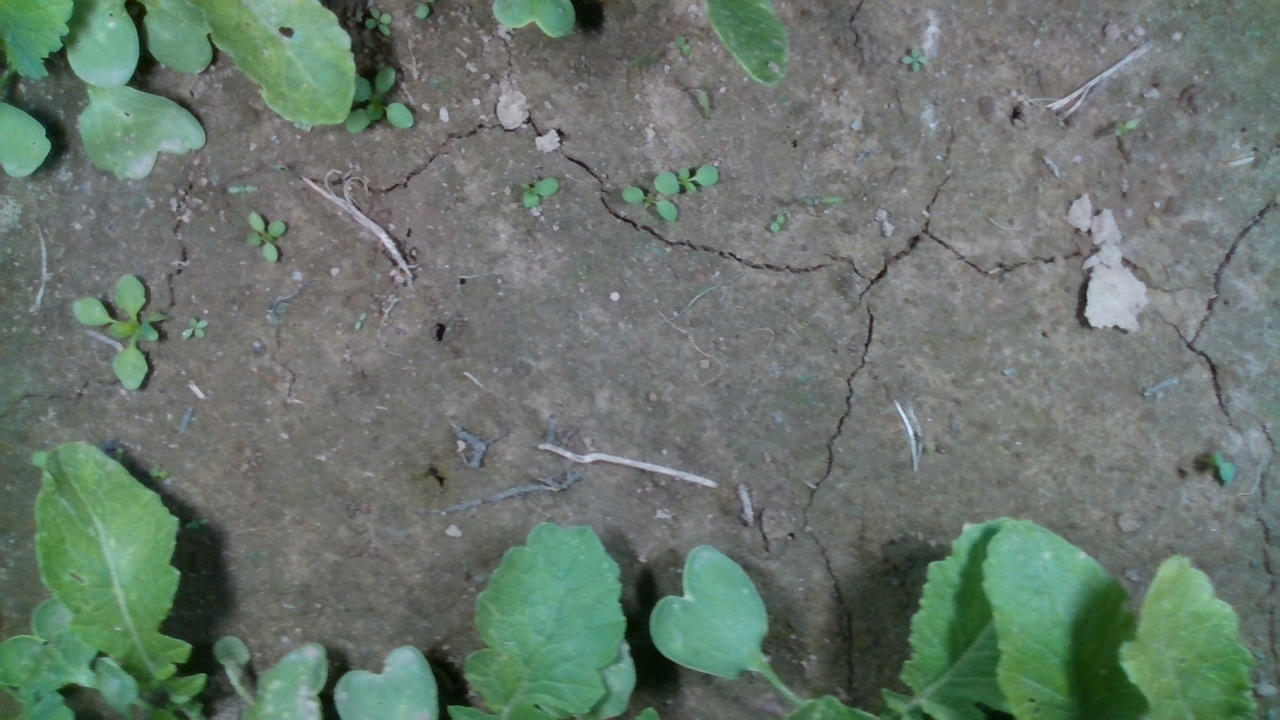weed: (243, 211, 289, 263), (516, 176, 560, 209), (897, 46, 931, 74), (179, 315, 210, 342), (799, 194, 847, 206), (767, 213, 787, 233), (226, 184, 259, 194)
